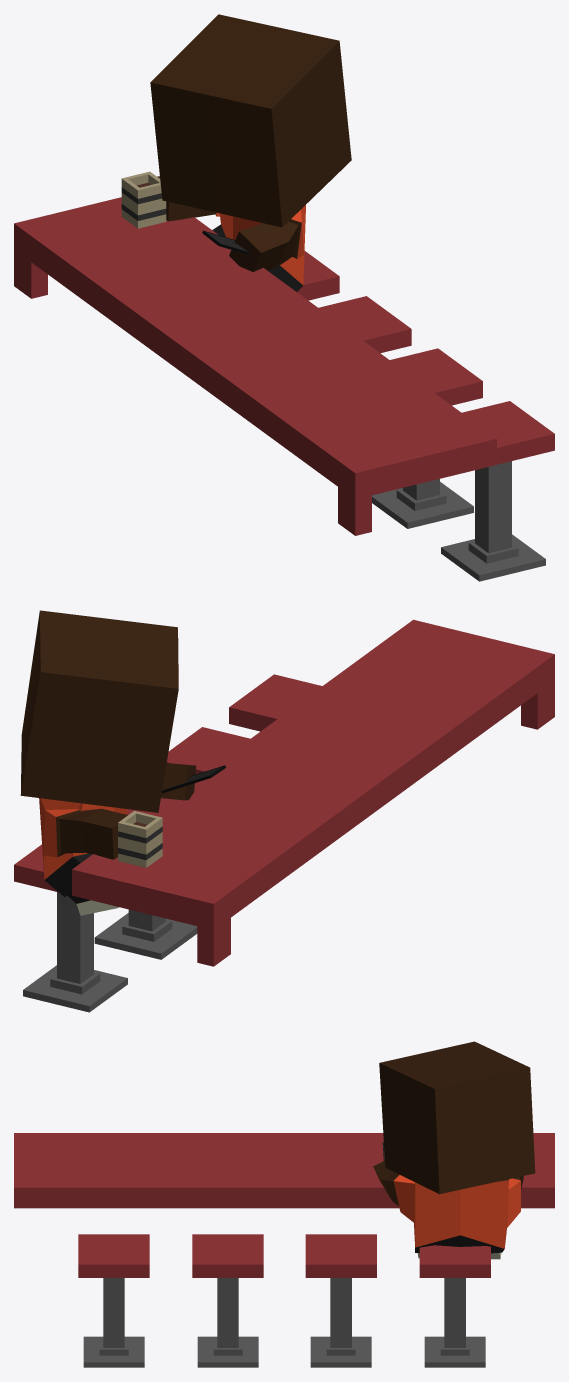
The model's file is Table with Stools.gltf.
3 views of the same model, one above another, from view 1: azimuth 30°, elevation 25°; view 2: azimuth 150°, elevation 25°; view 3: azimuth 270°, elevation 25° (orthographic). The views are drawn at different scales.
Visible parts, largest first — view 1: Table, Character, Stool 1, Stool 2, Stool 3, Mug, Stool 4; view 2: Table, Character, Stool 4, Stool 3, Stool 1, Mug, Stool 2; view 3: Table, Character, Stool 1, Stool 2, Stool 3, Stool 4.
Boxes of the visible parts, x1,y1,x2,y2 form: Table: [14, 197, 496, 535]; Character: [150, 14, 351, 291]; Stool 1: [441, 401, 554, 581]; Stool 2: [372, 348, 482, 528]; Stool 3: [318, 296, 411, 353]; Mug: [121, 171, 166, 228]; Stool 4: [297, 251, 339, 300]; Table: [72, 619, 554, 966]; Character: [20, 610, 196, 915]; Stool 4: [14, 844, 127, 1012]; Stool 3: [94, 798, 197, 959]; Stool 1: [229, 674, 322, 731]; Mug: [118, 811, 162, 867]; Stool 2: [166, 727, 250, 774]; Table: [14, 1133, 554, 1208]; Character: [373, 1041, 535, 1259]; Stool 1: [78, 1234, 149, 1367]; Stool 2: [192, 1234, 263, 1367]; Stool 3: [305, 1234, 376, 1367]; Stool 4: [419, 1245, 490, 1367].
Bounding box in the file's own units: 3.74 × 4.84 × 8.35.
